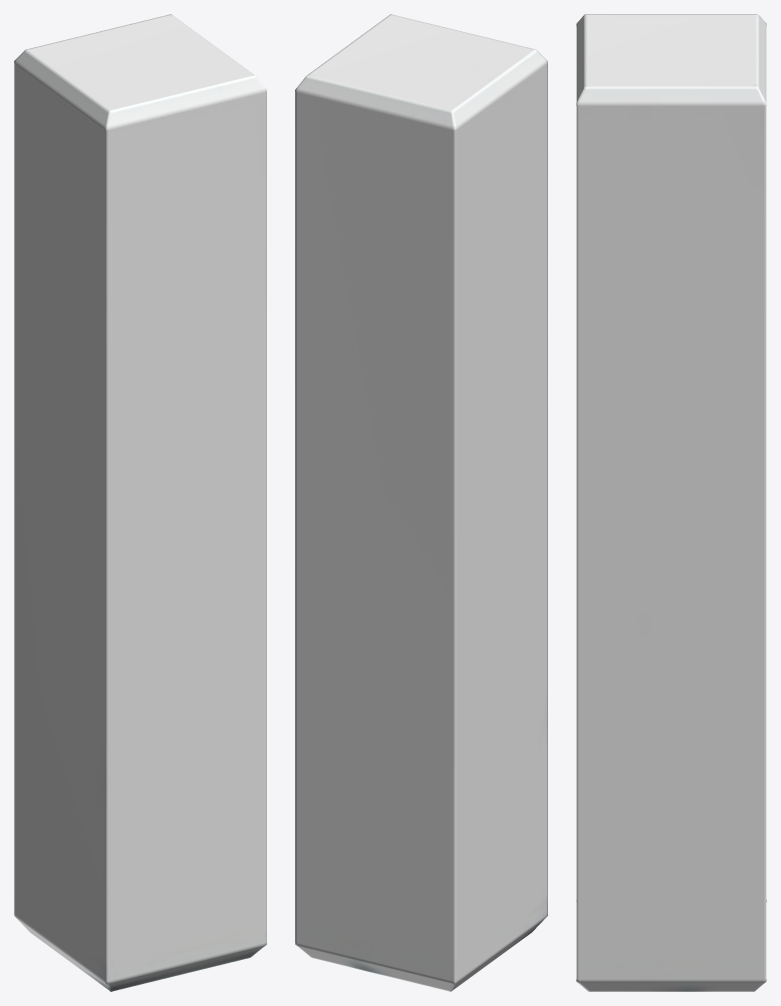
Rendered from pillar.glb.
3 renders of one model, left to right at view 1: azimuth 30°, elevation 25°; view 2: azimuth 150°, elevation 25°; view 3: azimuth 270°, elevation 25°, orthographic. The views are drawn at different scales.
Visible parts, largest first — view 1: PillarMid; view 2: PillarMid; view 3: PillarMid.
Boxes of the visible parts, x1,y1,x2,y2 form: PillarMid: (14,14,266,991); PillarMid: (295,14,547,991); PillarMid: (576,14,766,991).
Size of the model in its own units: 28.51 by 150 by 28.51.
1 material, 1 textured.
